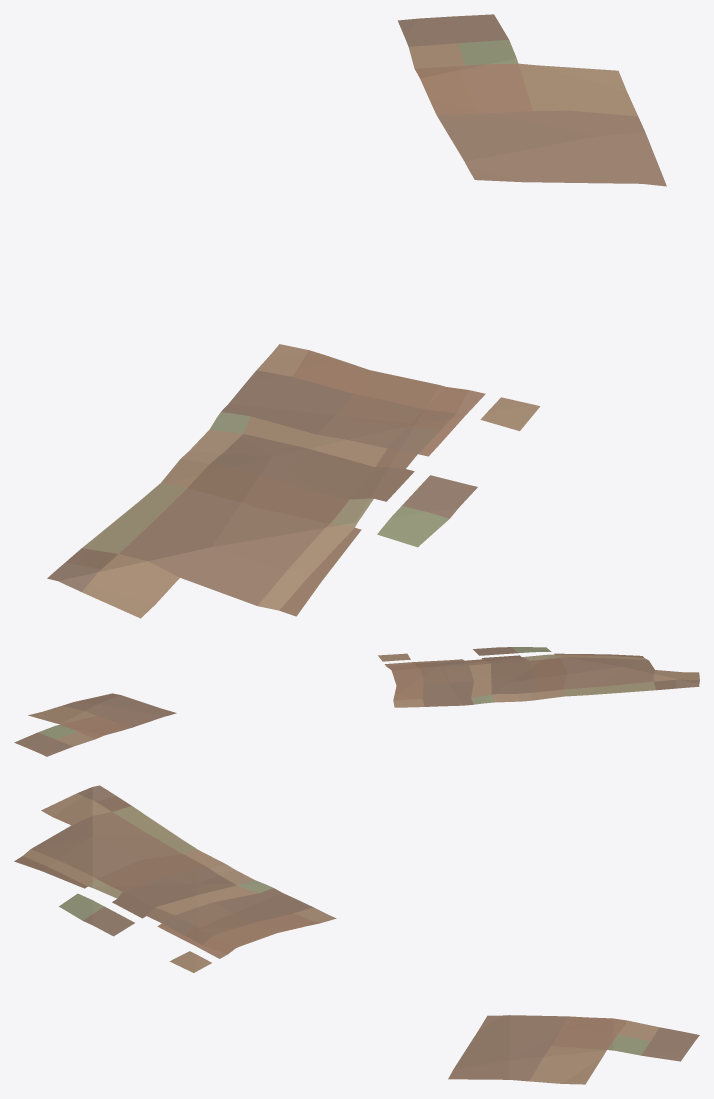
File: farm_-4_-7_soil.glb
The picture shows the model from 3 angles, top to bottom: view 1: azimuth 30°, elevation 25°; view 2: azimuth 150°, elevation 25°; view 3: azimuth 270°, elevation 25°; orthographic projection. The views are drawn at different scales.
Parts seen in each view (by area): view 1: geometry_0; view 2: geometry_0; view 3: geometry_0.
Boxes of the visible parts, bbox=[...] form: geometry_0: bbox=[47, 14, 666, 618]; geometry_0: bbox=[14, 647, 699, 756]; geometry_0: bbox=[14, 785, 699, 1084].
Size of the model in its own units: 534 by 23.04 by 527.
